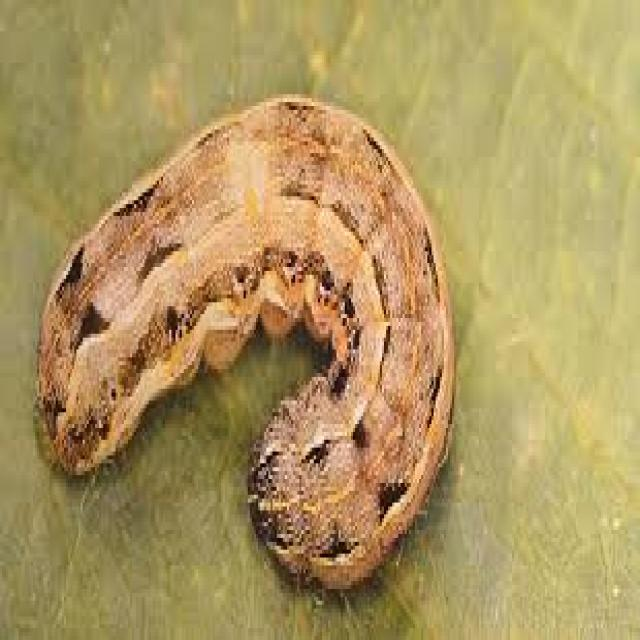armyworm: (40, 100, 467, 585)
